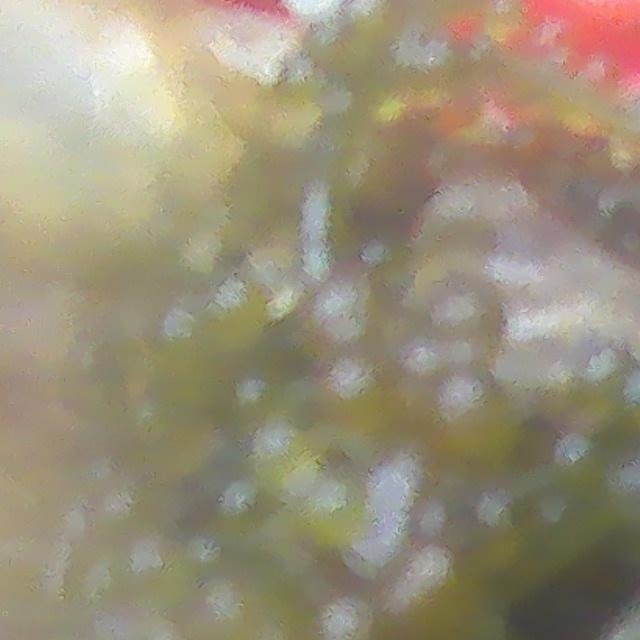SeaGrape: (439, 373, 518, 466), (324, 349, 392, 414)
